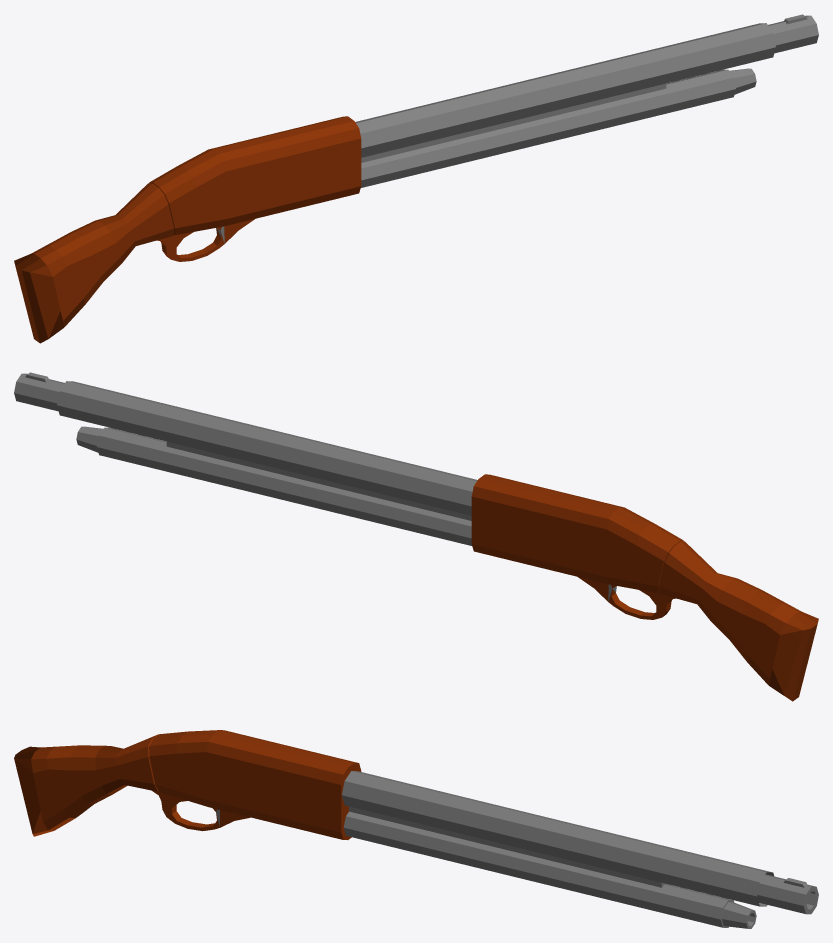
File: GUN.fbx
3 renders of one model, top to bottom at view 1: azimuth 30°, elevation 25°; view 2: azimuth 150°, elevation 25°; view 3: azimuth 330°, elevation 25°, orthographic.
Parts seen in each view (by area): view 1: Cube_002_Cube_003; view 2: Cube_002_Cube_003; view 3: Cube_002_Cube_003.
Boxes of the visible parts, x1,y1,x2,y2 form: Cube_002_Cube_003: (14,14,818,343); Cube_002_Cube_003: (14,372,818,701); Cube_002_Cube_003: (14,730,818,928).
Size of the model in its own units: 5.83 by 1.03 by 0.2526.
